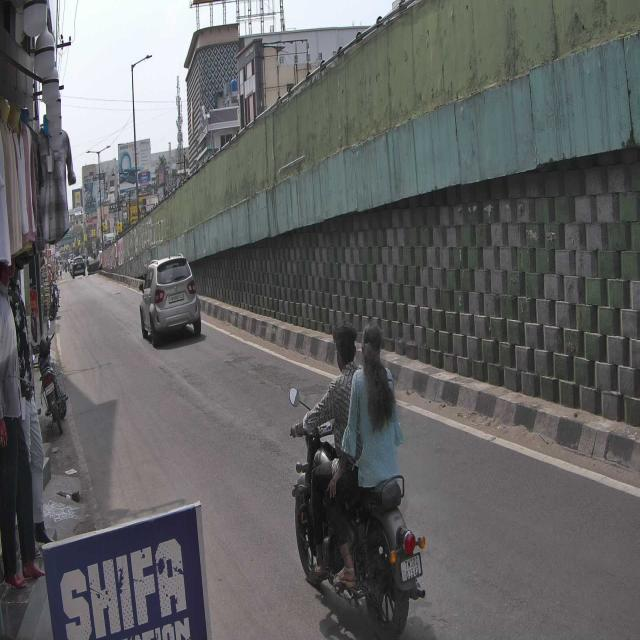double_rider: (287, 315, 427, 640)
